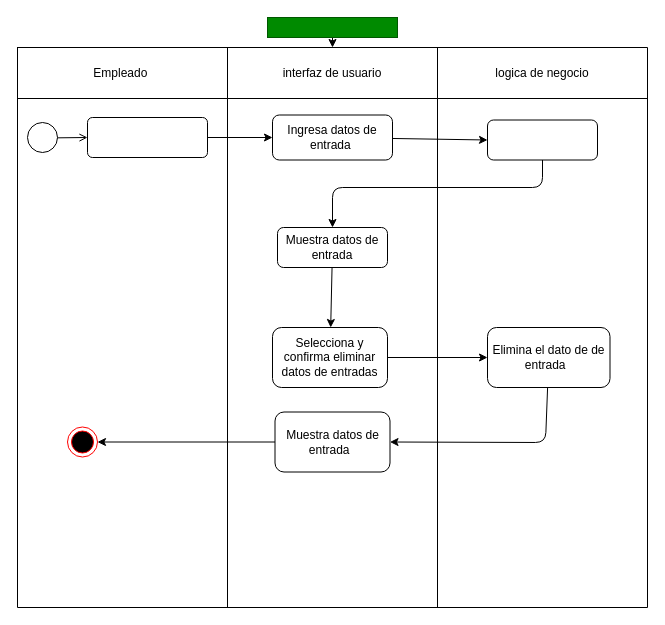
Image size: 665x625. Some labels were removed from this diagram. Here are the shapes that lost their labels. From the top down, the centre of each, then its label:
At [332,27]: "ELIMINAR SHUTTLE".
At [147,137]: "Ingresa tipo de viaje".
At [542,139]: "Consulta datos de entrada".
